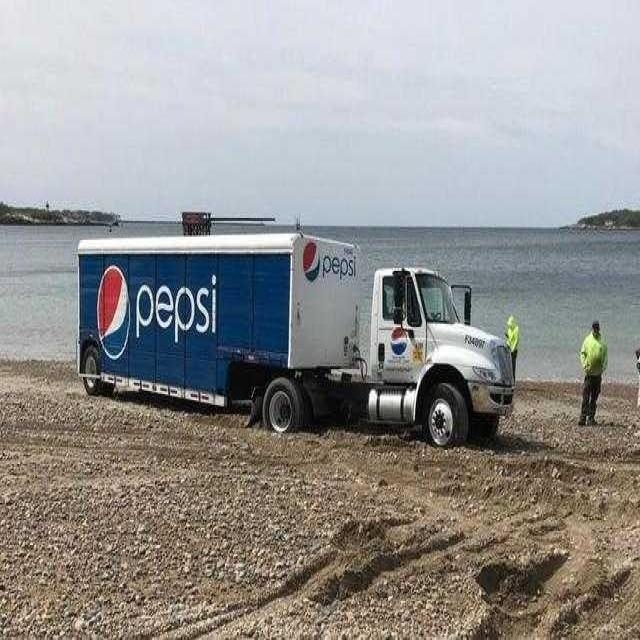Truck: (70, 215, 522, 455)
